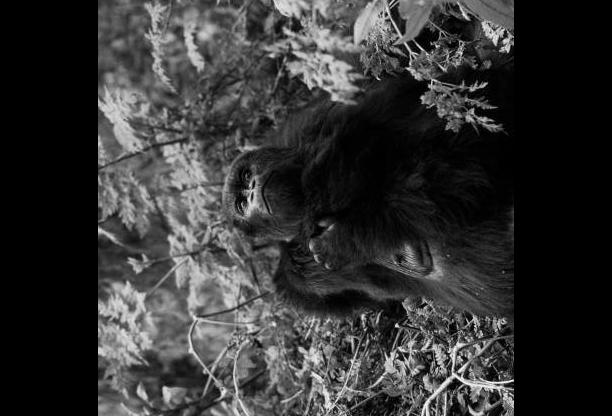goriile_montagne: (224, 46, 508, 310)
